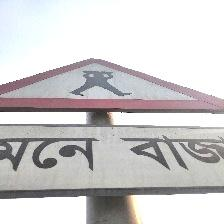Market-in-front: (1, 59, 223, 208)
